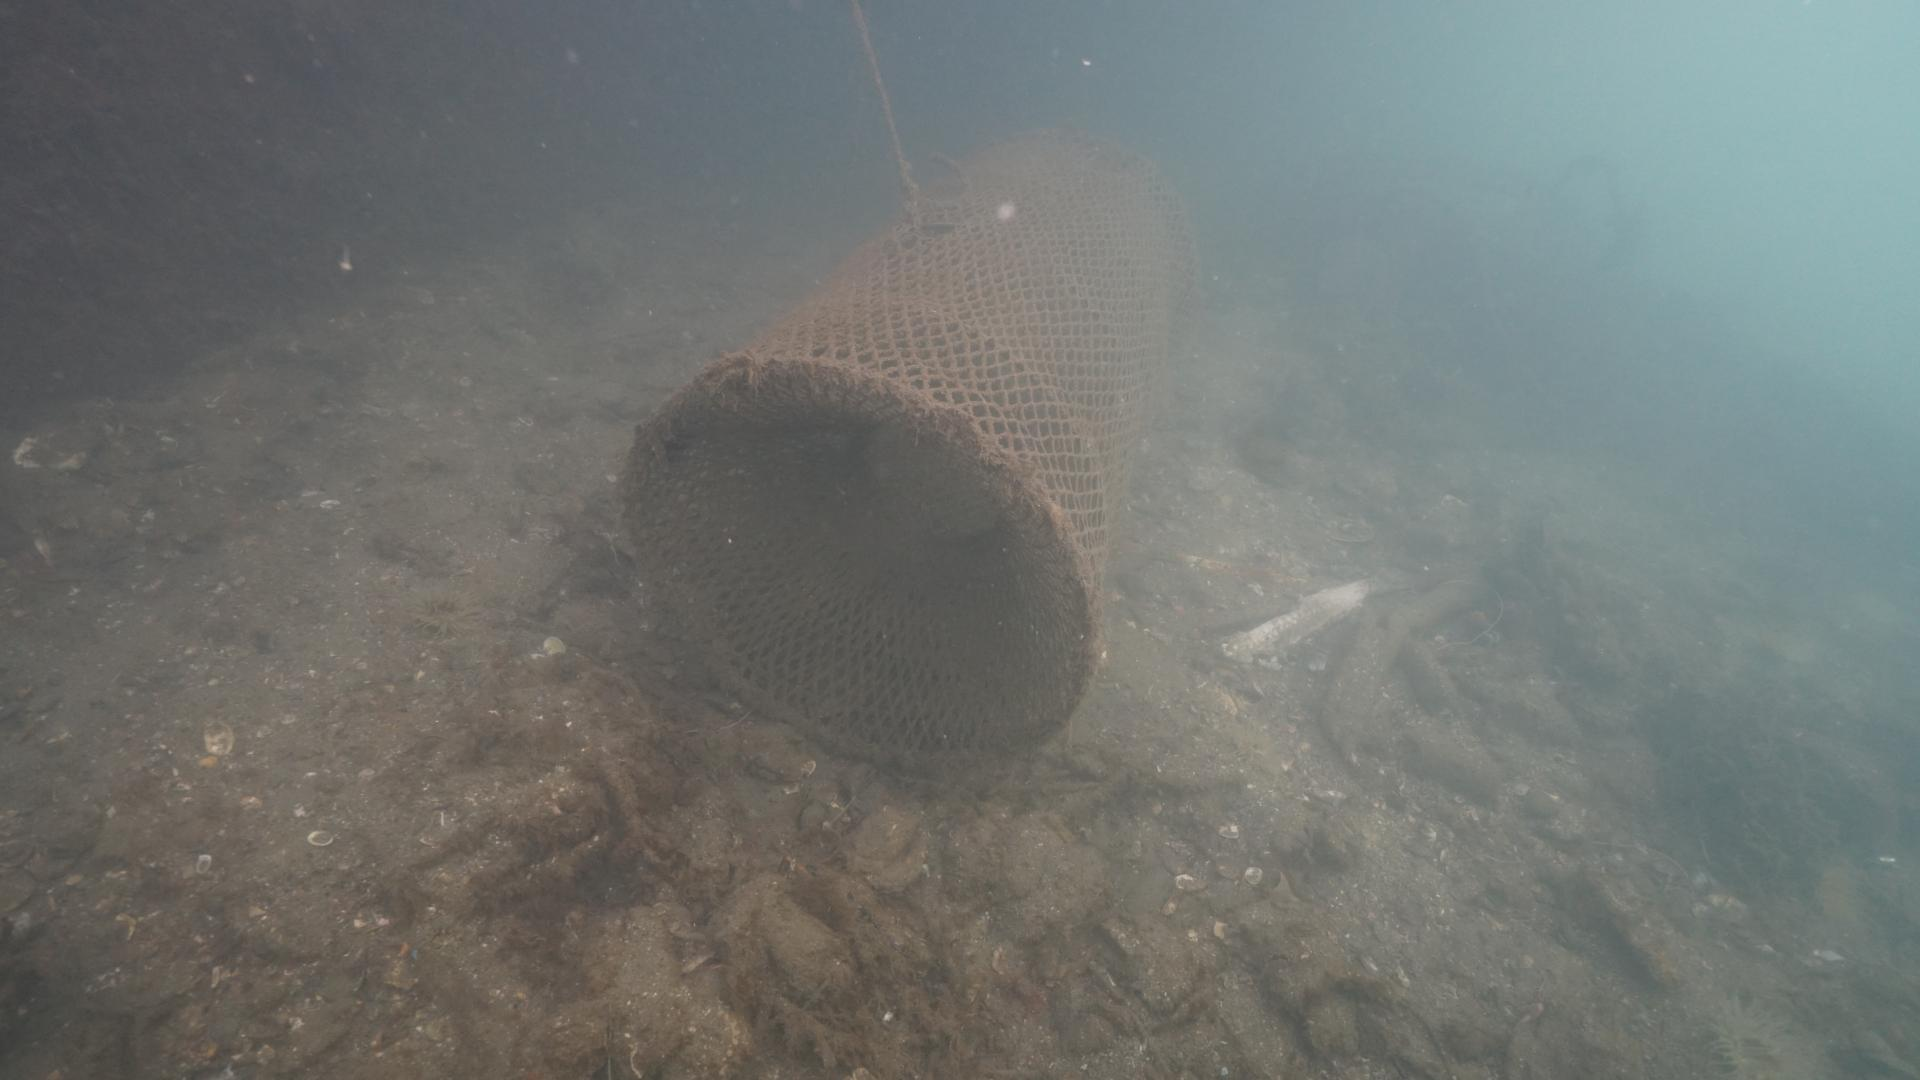rope: (843, 0, 924, 206)
spring fish trap: (613, 109, 1215, 775)
